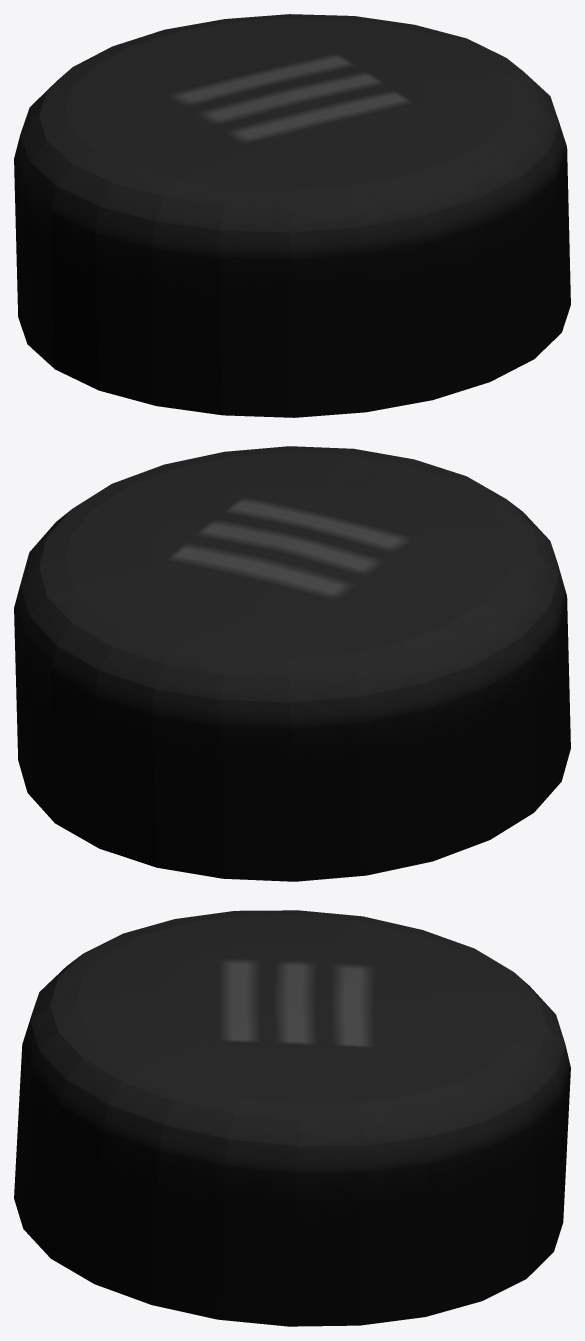
The model's file is button0.obj.
3 views of the same model, one above another, from view 1: azimuth 30°, elevation 25°; view 2: azimuth 150°, elevation 25°; view 3: azimuth 270°, elevation 25° (orthographic).
Bounding box in the file's own units: 0.00998 × 0.0045 × 0.0101.
Materials: 1 (1 with a texture image).
